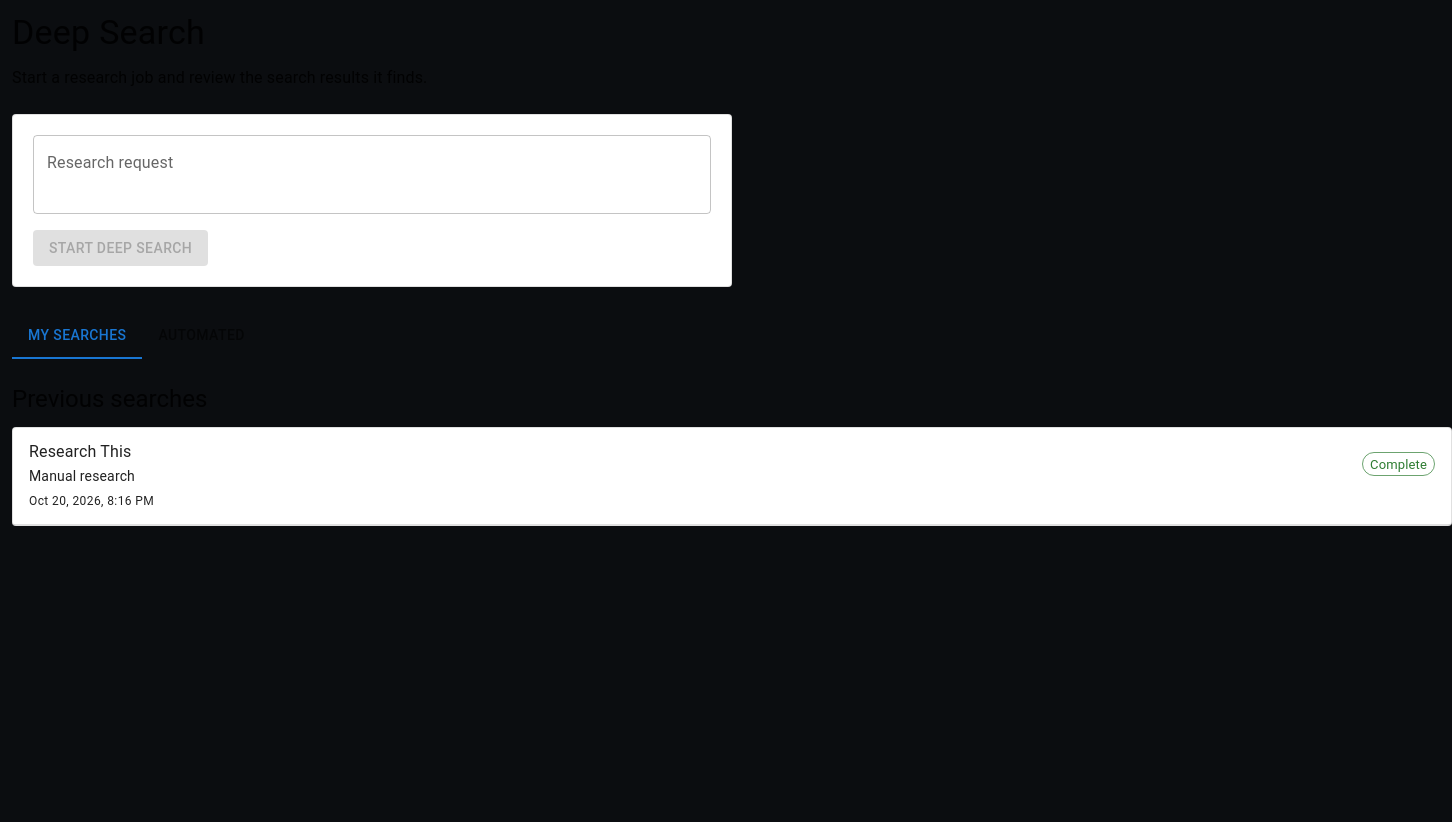
DeepSearch › switches between My Searches and Automated with origin links
Check: the text "Manual research" is shown, box [29,468,135,484]
Click the tab "Automated" at (202, 335), box [142,311,261,359]
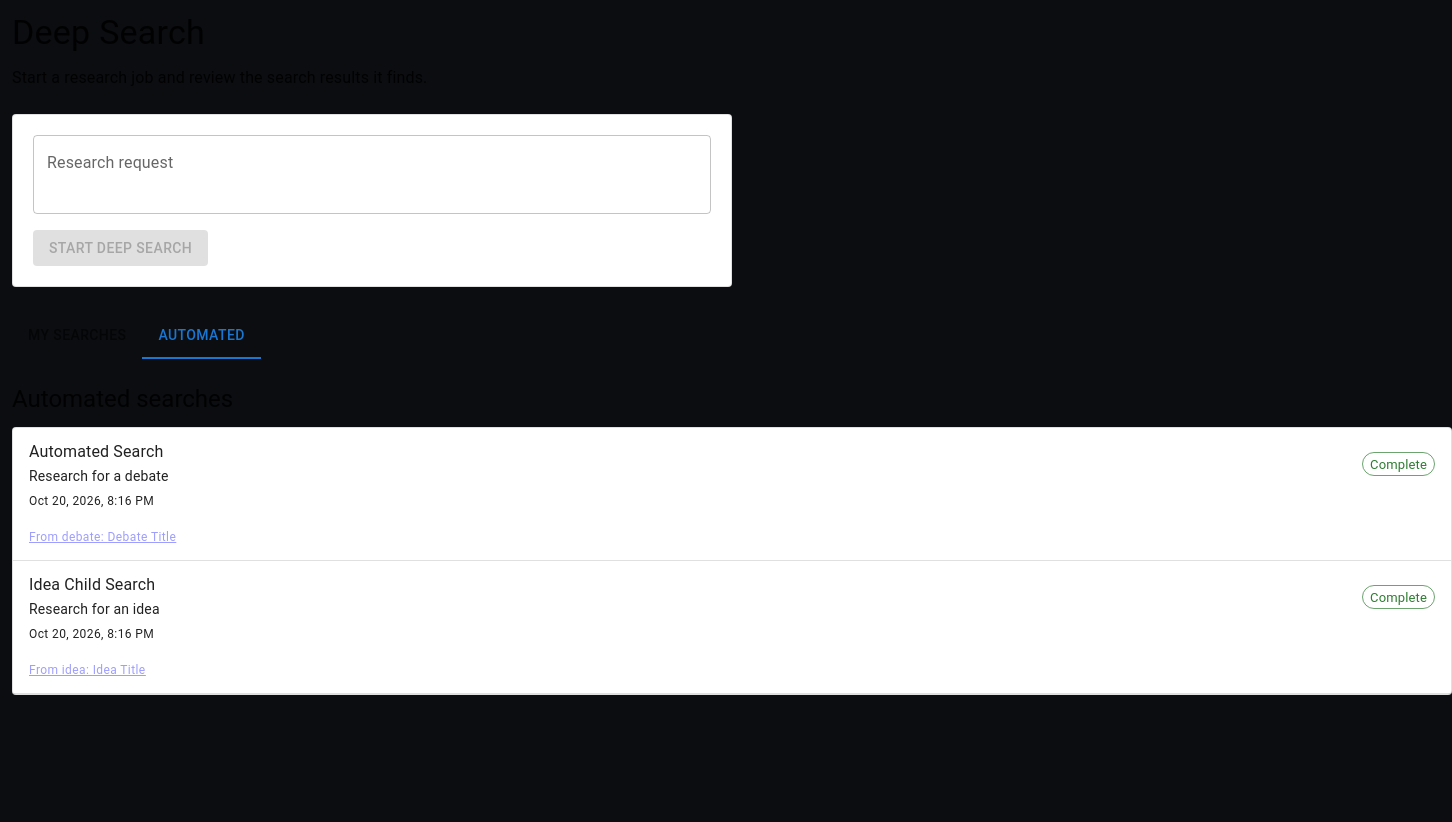
Check: the link "Manual research" is gone
